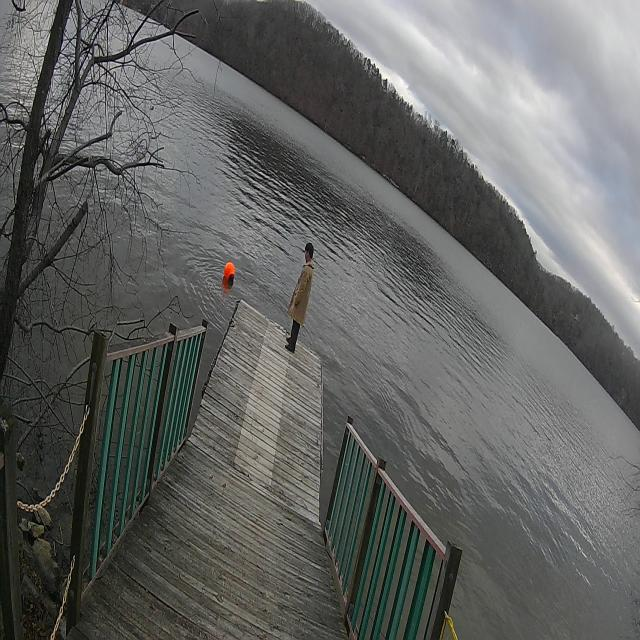Buoy: (222, 258, 236, 287)
